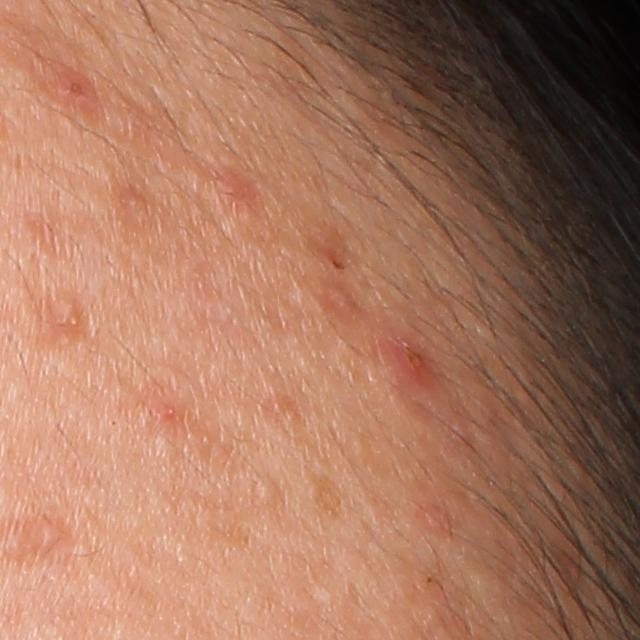papule: (387, 336, 437, 382), (210, 167, 259, 208)
